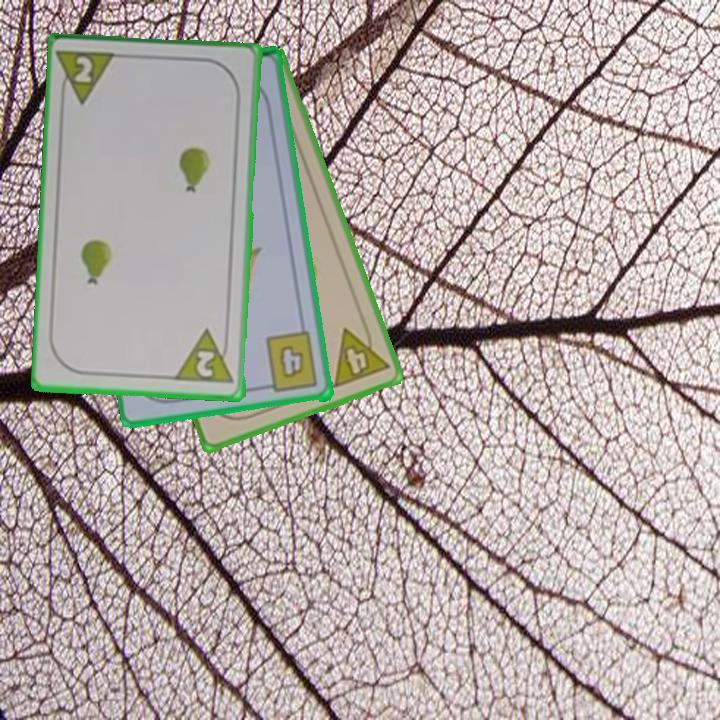2p: (172, 326, 238, 387), (56, 48, 122, 109)
4b: (258, 329, 321, 396)
4p: (329, 318, 392, 391)
